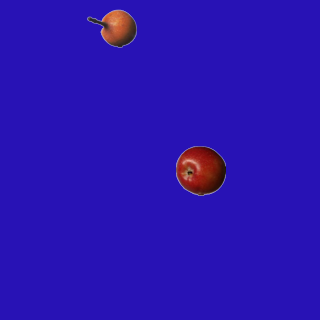Apple Braeburn: (175, 145, 225, 195)
Granadilla: (86, 3, 136, 53)
